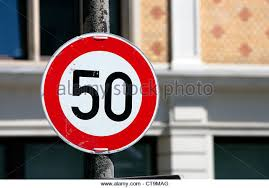Speed_limit_50km: (40, 34, 160, 153)
